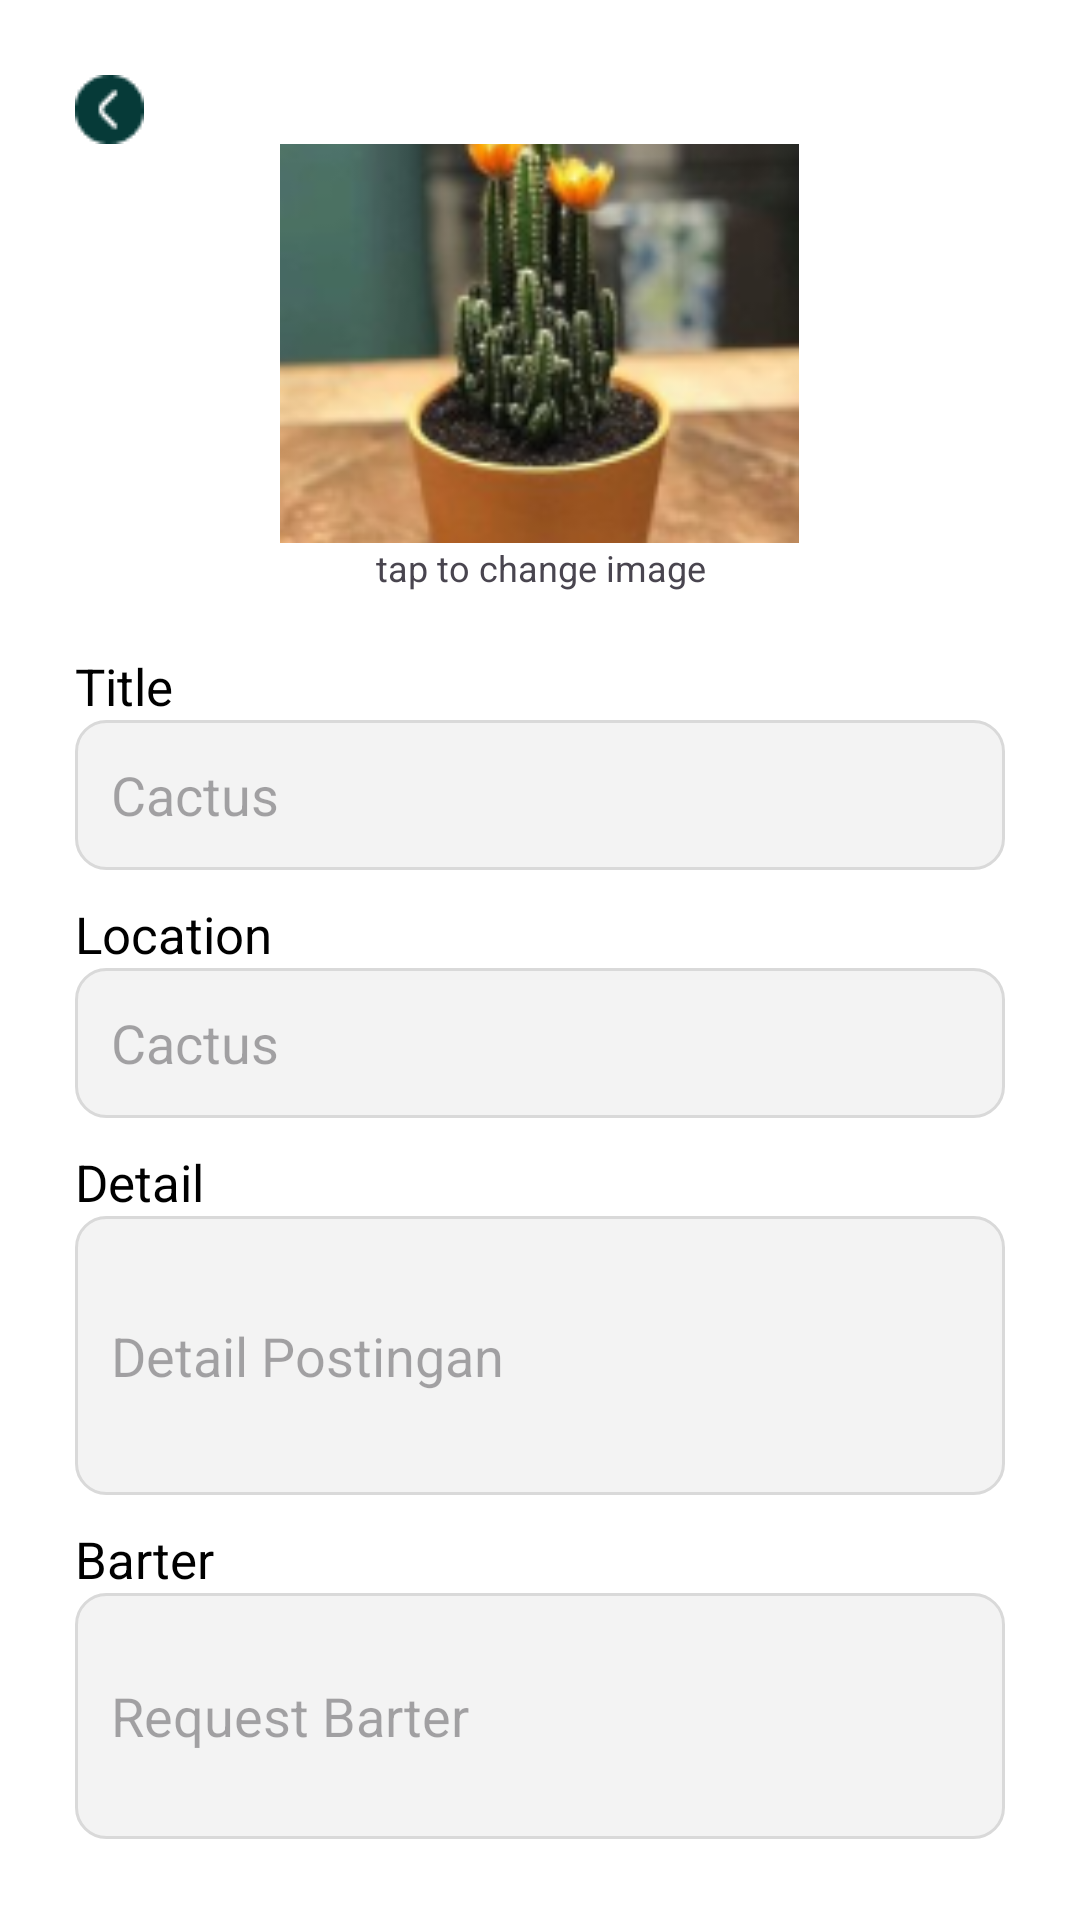

Screen size 1080px×1920px. Icon name, then its box in pixels as {"left": x1, "top": y1, "right": x2, "bottom": y2}:
back: {"left": 75, "top": 75, "right": 144, "bottom": 144}
